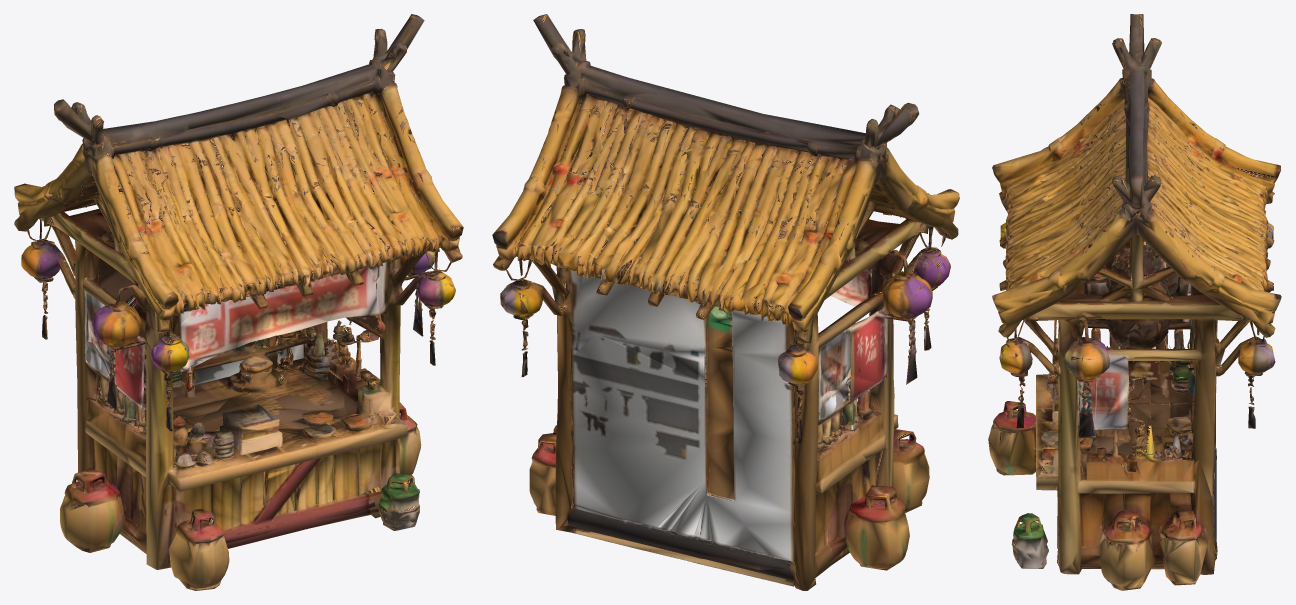
Rendered from bq_lantern_shop.glb.
3 views of the same model, side by side, from view 1: azimuth 30°, elevation 25°; view 2: azimuth 150°, elevation 25°; view 3: azimuth 270°, elevation 25° (orthographic). The views are drawn at different scales.
Size of the model in its own units: 1.61 by 1.9 by 1.19.
Materials: 1 (1 with a texture image).
